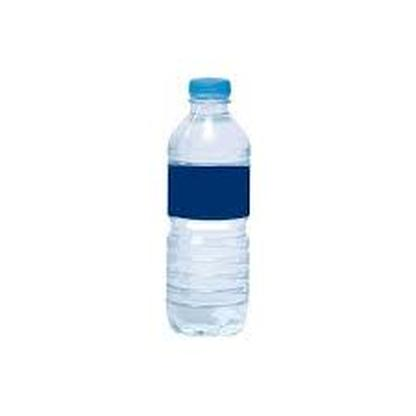plastic bottle: (165, 77, 252, 336)
